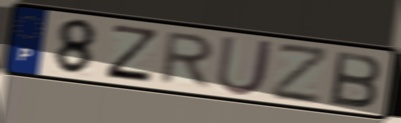8: (51, 17, 101, 77)
B: (328, 49, 385, 110)
R: (156, 30, 218, 90)
U: (214, 33, 277, 98)
Z: (270, 43, 332, 106), (102, 22, 161, 85)
